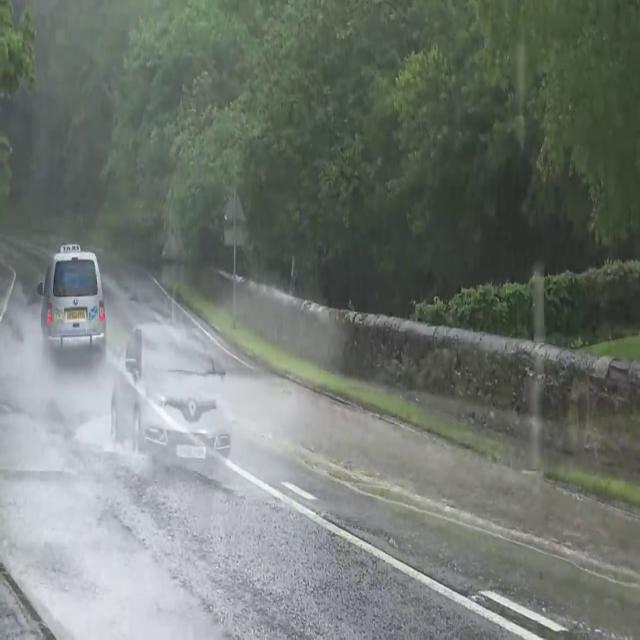license-plate-annotation: (62, 307, 90, 323)
